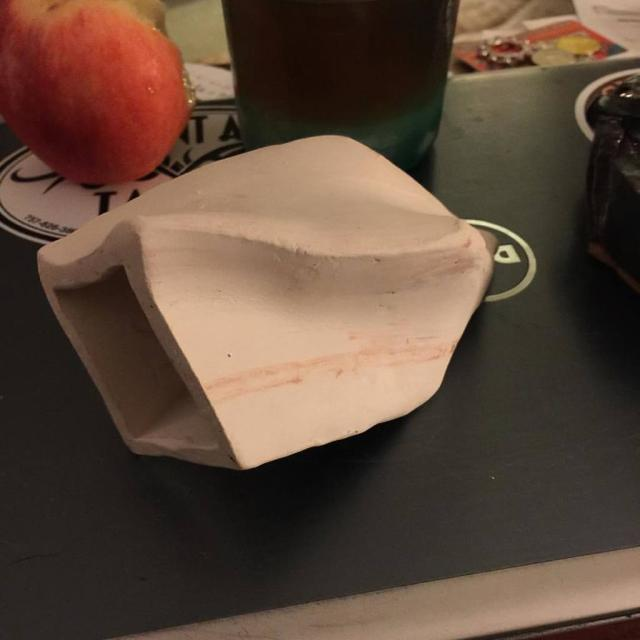Healty Apple: (0, 2, 190, 170)
